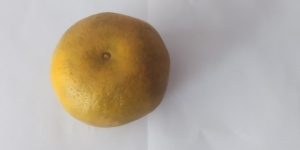BAD: (52, 11, 172, 128)
